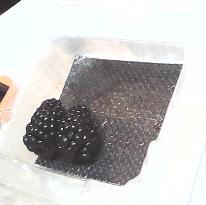berry: (23, 98, 66, 158), (60, 106, 100, 161)
